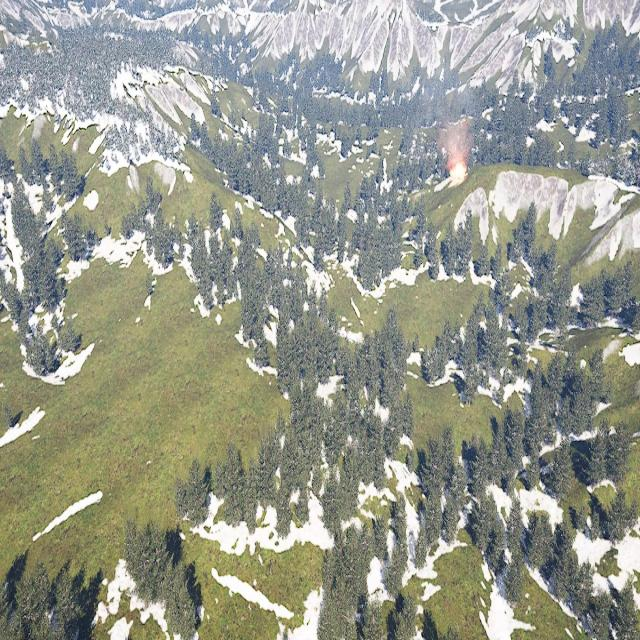fire: (449, 162, 467, 184)
smoke: (437, 115, 473, 163)
